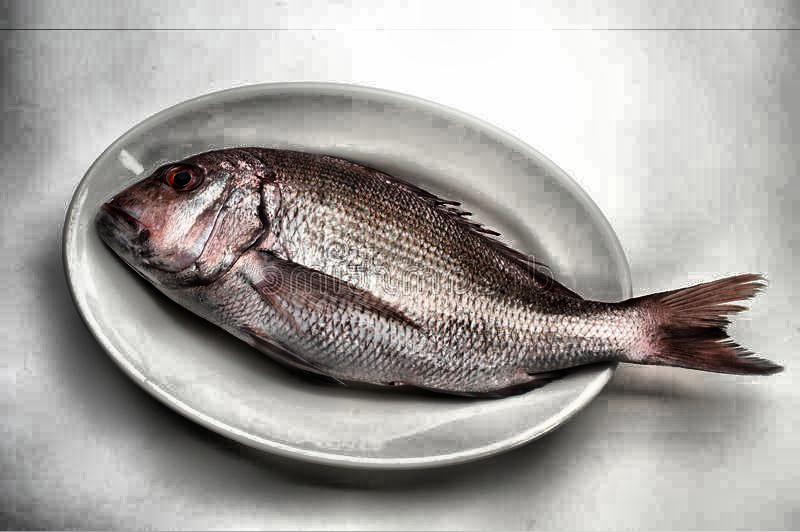fish: (101, 118, 777, 466)
